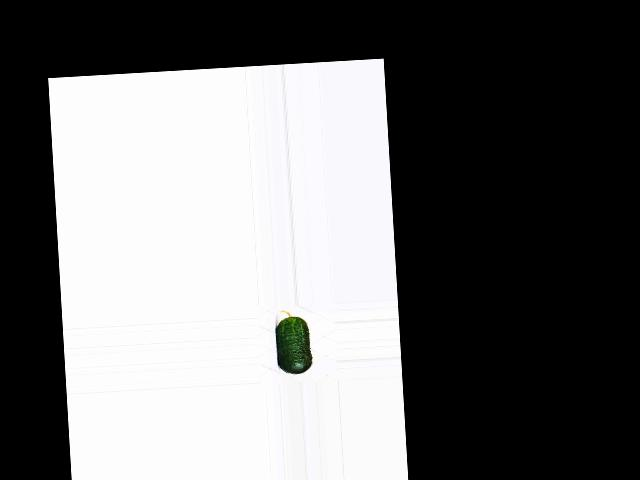cucumber: (274, 309, 312, 375)
